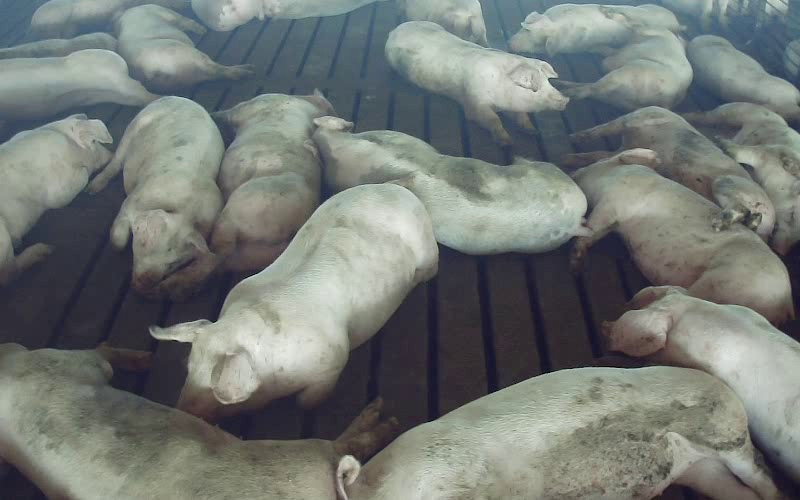pig: (151, 183, 437, 418), (572, 148, 792, 325), (604, 286, 799, 482), (313, 116, 586, 254), (158, 93, 332, 298), (385, 21, 567, 143), (0, 114, 111, 284), (686, 103, 799, 254), (114, 4, 252, 92), (0, 49, 157, 118), (559, 29, 692, 110), (687, 35, 799, 120), (509, 4, 680, 55)
